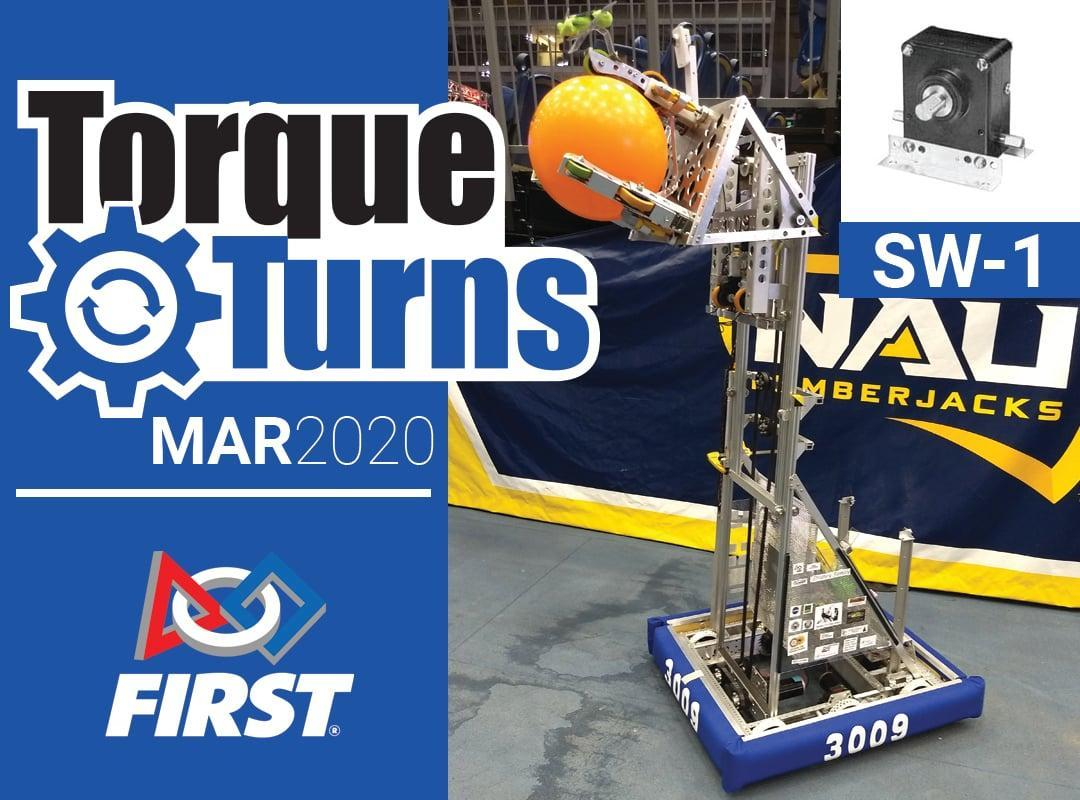robot: (523, 3, 992, 798)
